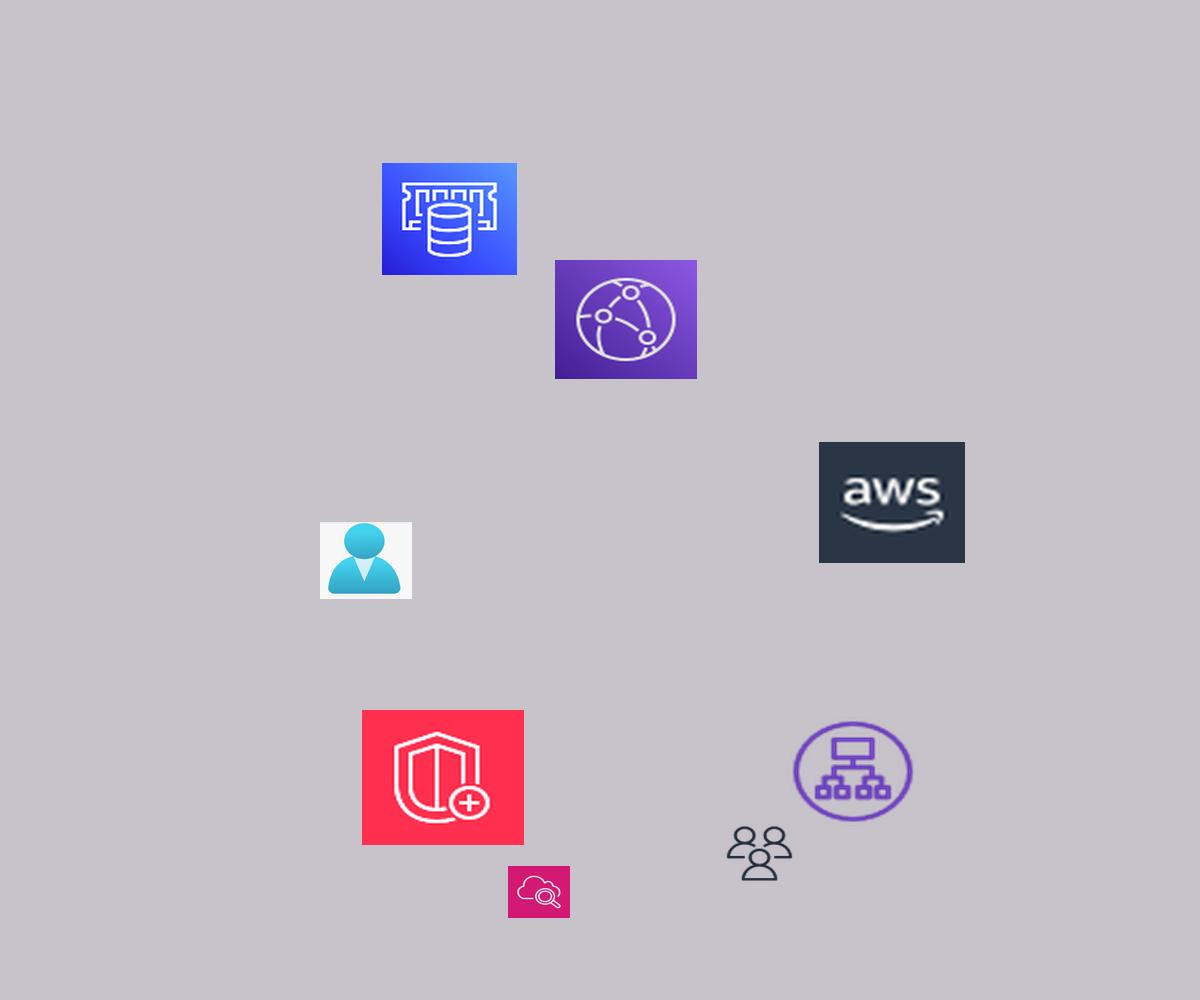AWS-Cloud-logo: (819, 442, 965, 563)
AWS-CloudFront: (555, 260, 697, 379)
AWS-CloudWatch: (508, 866, 570, 918)
AWS-ElastiCache: (382, 163, 517, 275)
AWS-Res_Elastic-Load-Balancing_Application-Load-Balancer: (788, 717, 918, 826)
AWS-Res_Users: (724, 824, 795, 883)
AWS-Shield: (362, 710, 524, 845)
Azure_users: (320, 522, 412, 599)
